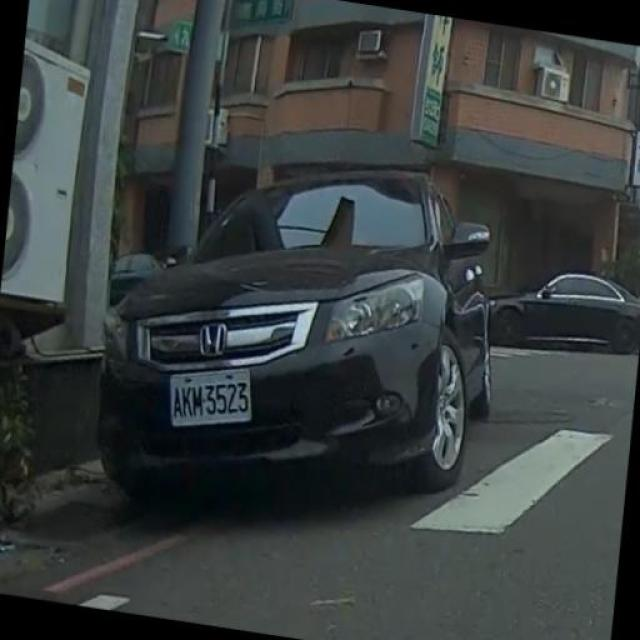illegalparking: (84, 128, 571, 570)
